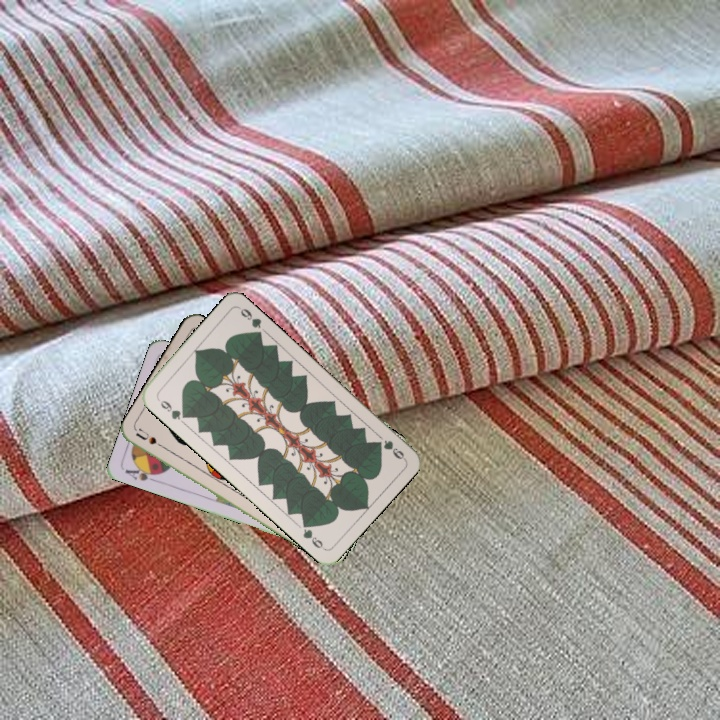G9: (372, 436, 408, 462), (156, 396, 190, 423)
SA: (121, 461, 163, 485)
SU: (132, 424, 170, 453)
